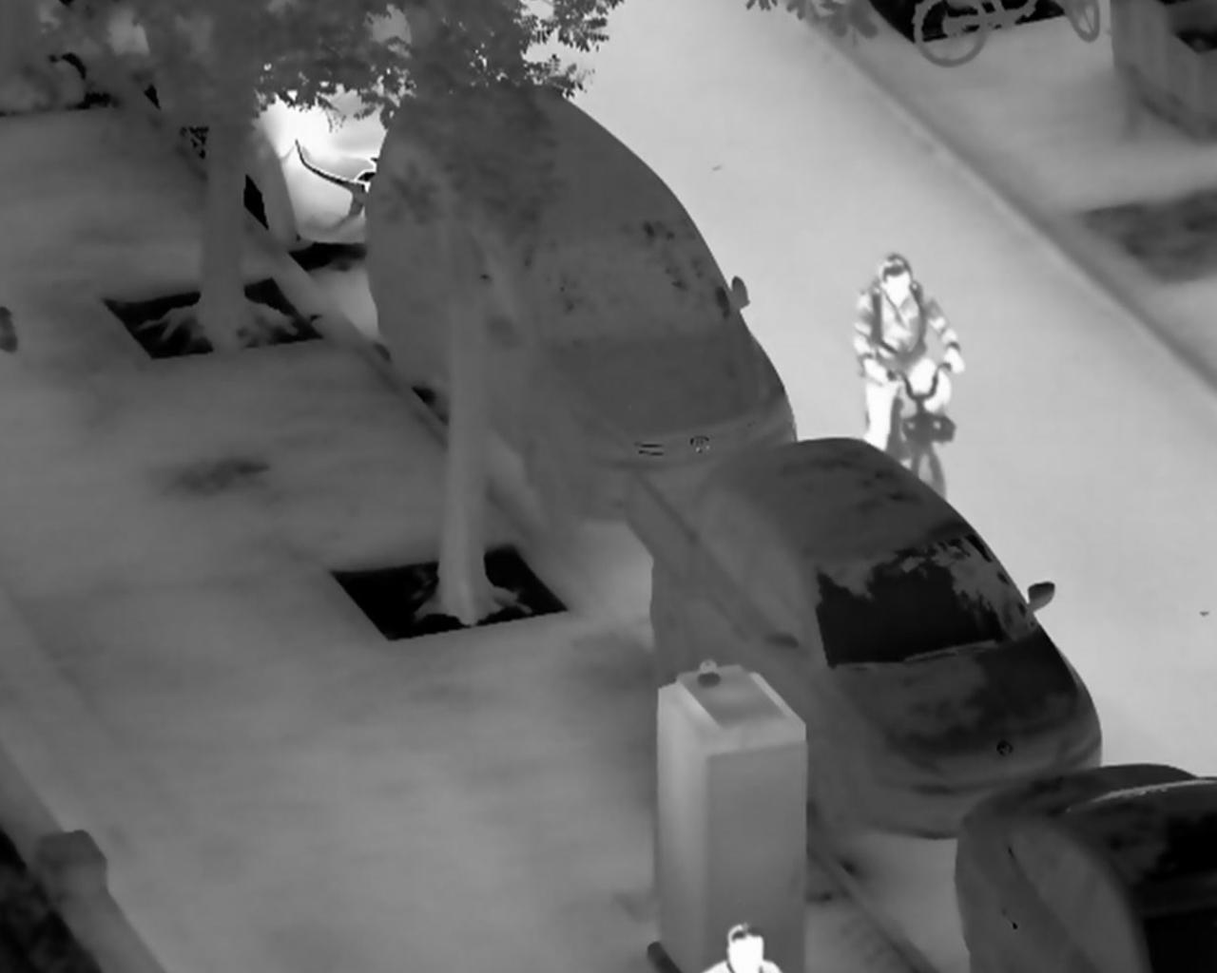person: (853, 253, 970, 456)
